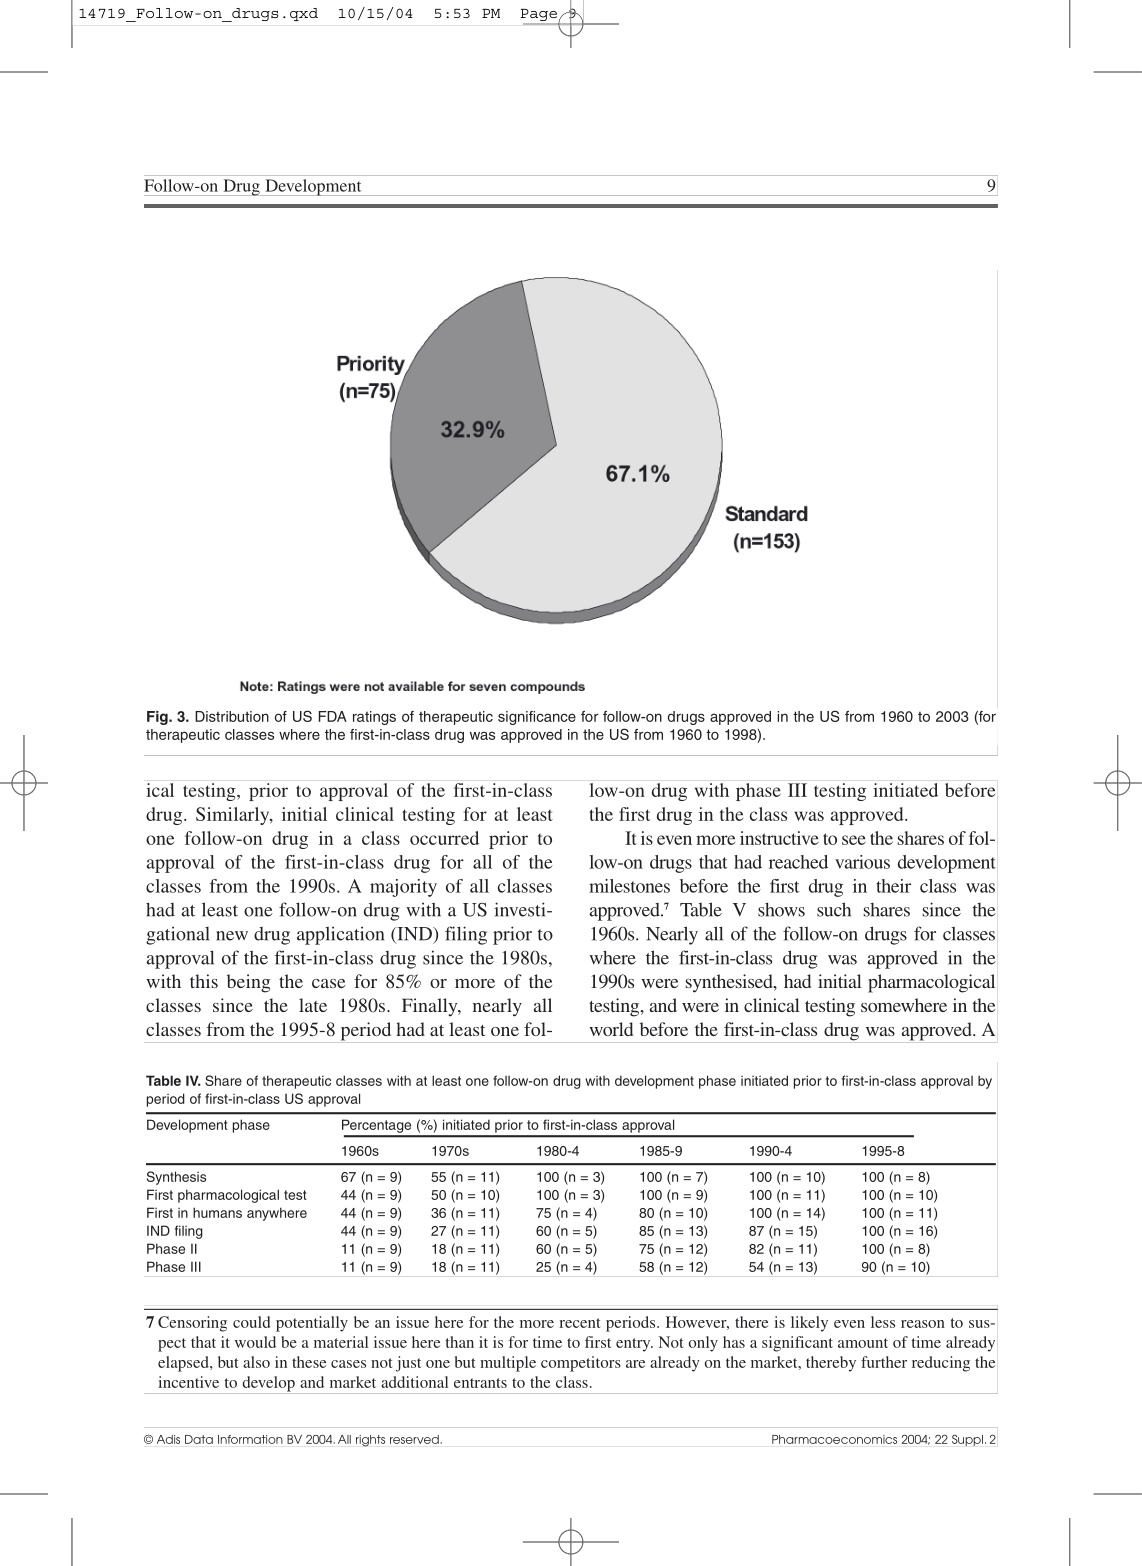partial_lined_merged_cells: (146, 1110, 998, 1312)
